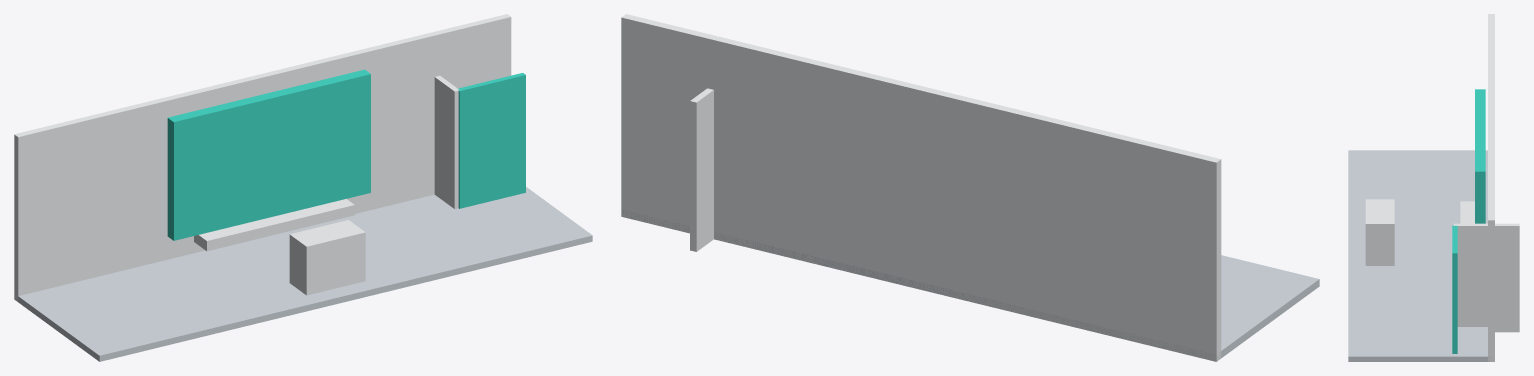
3 renders of one model, left to right at view 1: azimuth 30°, elevation 25°; view 2: azimuth 150°, elevation 25°; view 3: azimuth 270°, elevation 25°, orthographic. The views are drawn at different scales.
Parts seen in each view (by area): view 1: Exhibition Booth Concept; view 2: Exhibition Booth Concept; view 3: Exhibition Booth Concept.
Part boxes in pixels (x1,y1,x2,y2): Exhibition Booth Concept: [14, 14, 592, 361]; Exhibition Booth Concept: [621, 14, 1319, 361]; Exhibition Booth Concept: [1348, 14, 1519, 361].
Bounding box in the file's own units: 10 × 3.2 × 3.51.
